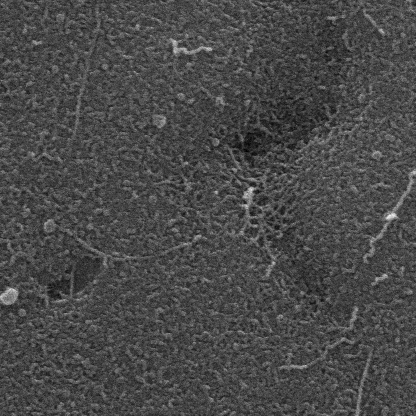cell2surface: (338, 351, 372, 416)
